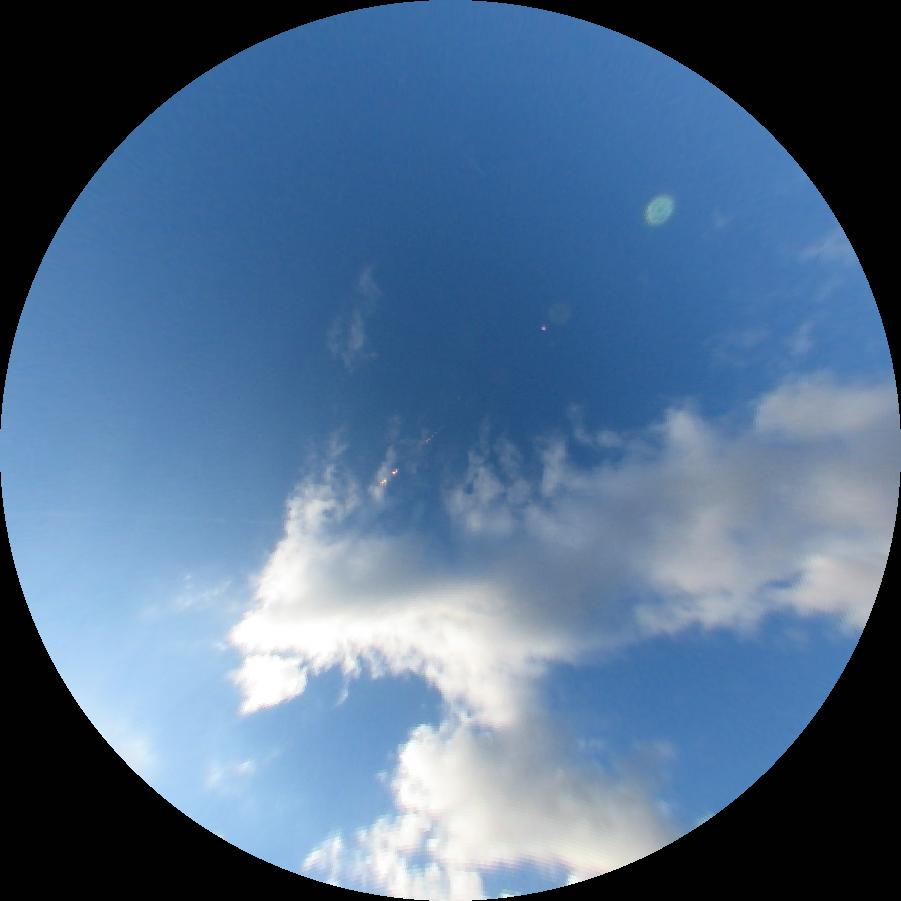contrail young: (466, 154, 488, 177)
parasite: (5, 509, 283, 525)
